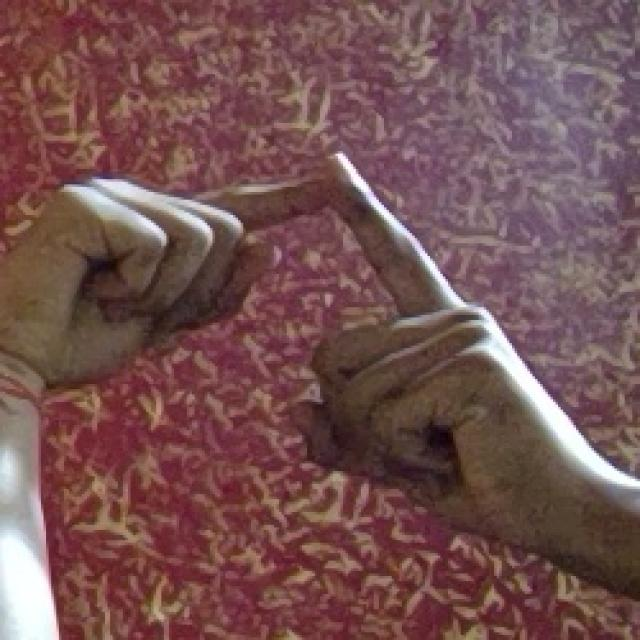Alphabet-E: (24, 144, 579, 572)
